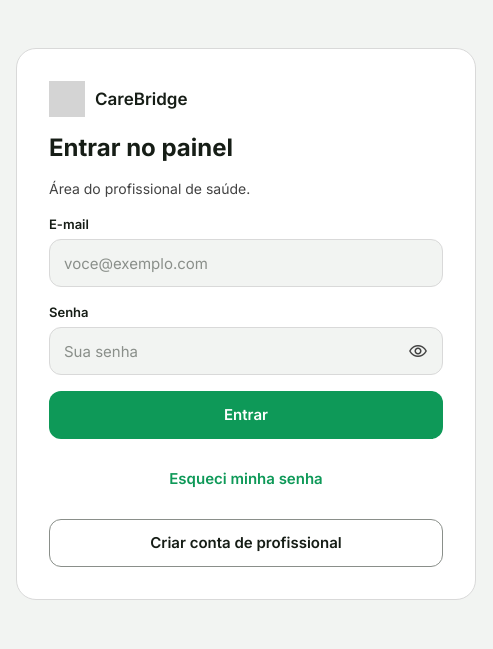
Test: LoginPage › não cria sessão nem redireciona se a resposta não tiver token
Type "ana@exemplo.com" into the field labelled "E-mail". click: (246, 263)
box: 64,240 -> 428,286
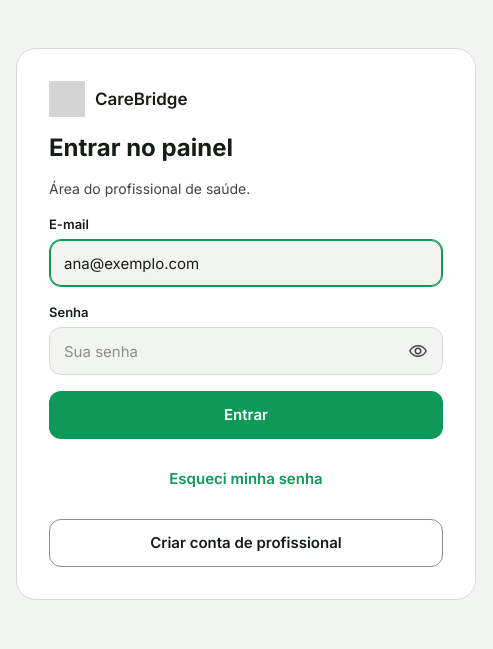
Type "SenhaSegura123!" into the password field labelled "Senha". click: (229, 351)
box: 64,328 -> 394,374
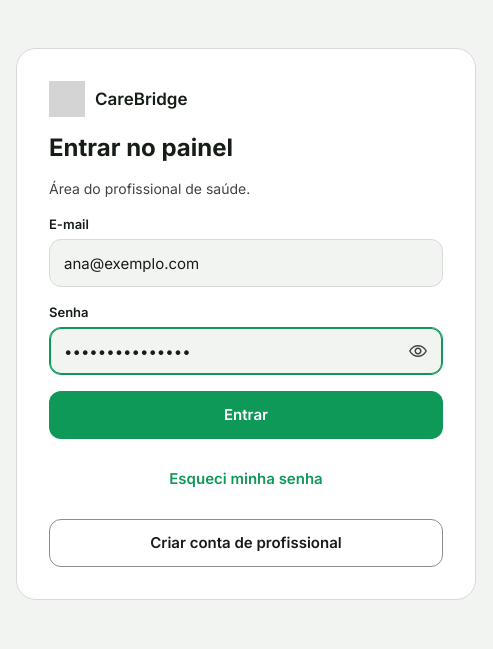
Click the button "Entrar". click: (246, 415)
box: 49,391 -> 443,439
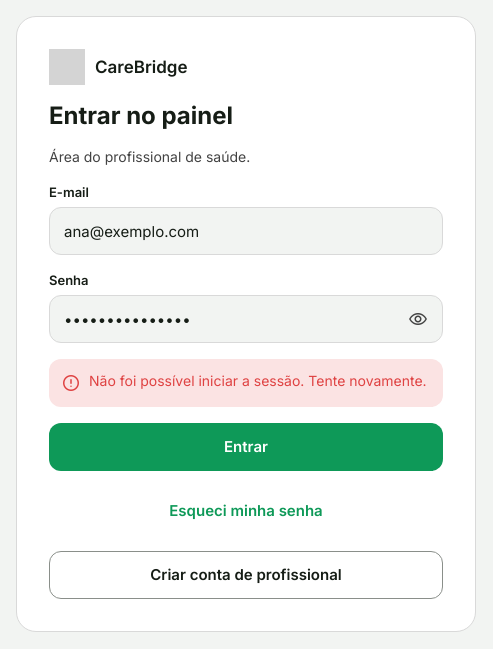
Expected: the text "Não foi possível iniciar a sessão. Tente novamente." is shown, 89,371 -> 431,391
